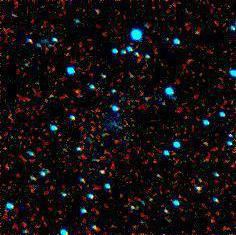star: (62, 78, 92, 108)
